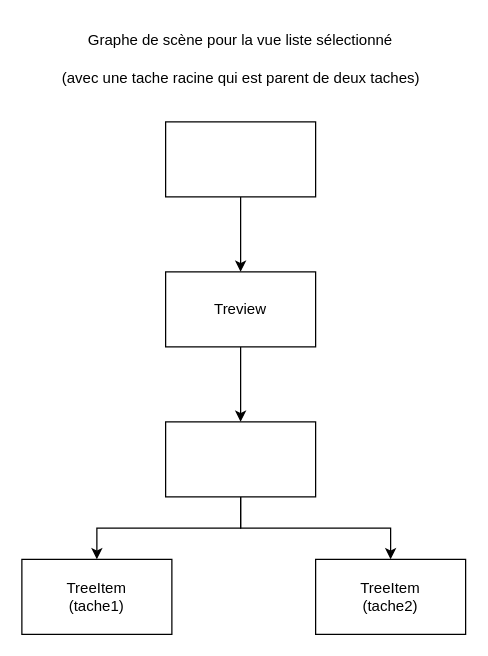
This 488x656 diagram has some shape labels left out. Each missing label, with the centre of its shape:
"StackPane" goes at [240,159].
"TreeItem (racine)" goes at [240,459].
